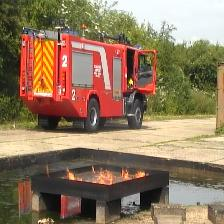fire: (92, 167, 113, 186), (66, 169, 84, 182), (121, 168, 132, 180), (136, 169, 146, 178)
